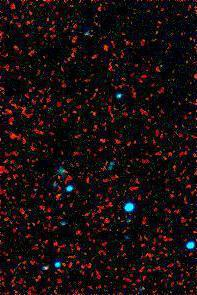star: (45, 181, 75, 211)
